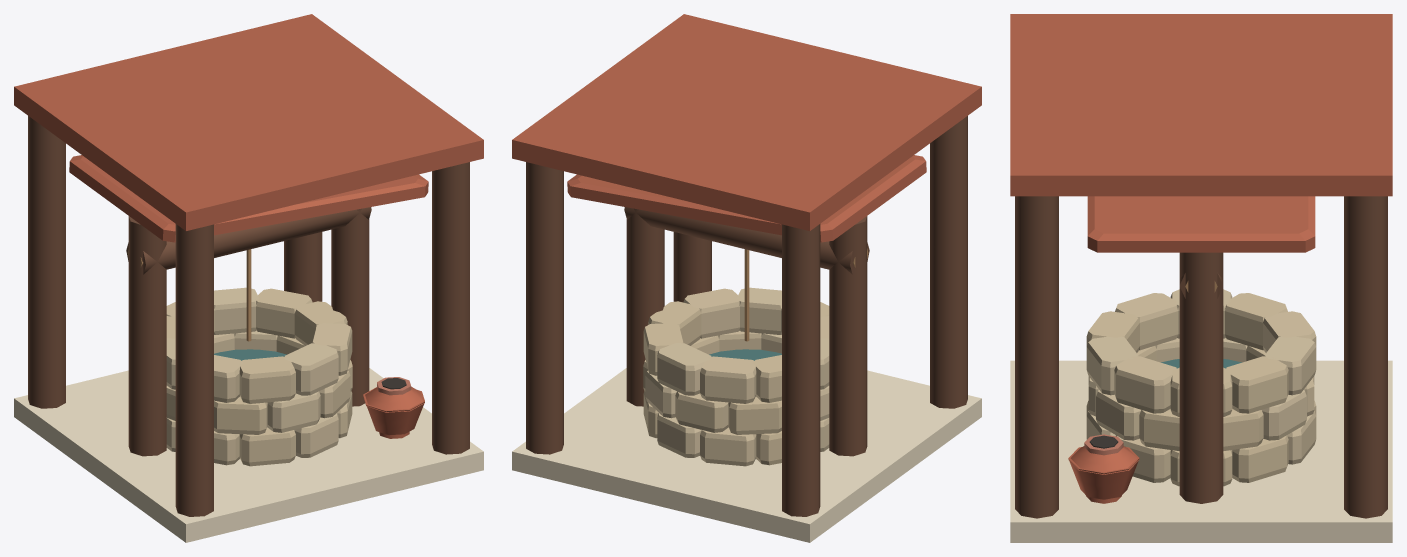
The model's file is waterworks_base.glb.
The picture shows the model from 3 angles, left to right: view 1: azimuth 30°, elevation 25°; view 2: azimuth 150°, elevation 25°; view 3: azimuth 270°, elevation 25°; orthographic projection. The views are drawn at different scales.
Parts seen in each view (by area): view 1: Floor, Cap2, Cap4, Cap, Cap3, Post2, Post4, Post, WellPost, Canopy, WellPost2, Axle (+18 smaller); view 2: Floor, Cap, Cap3, Cap2, Cap4, Post, Post3, Post2, WellPost, Canopy, WellPost2, Axle (+16 smaller); view 3: Floor, Cap3, Cap4, Cap, Cap2, Post3, Post4, Canopy, WellPost2, WellStone22, WellStone30, WellStone27 (+18 smaller).
Part boxes in pixels (<box>): Floor: <box>14,368,483,542</box>; Cap2: <box>100,113,334,230</box>; Cap4: <box>249,77,483,194</box>; Cap: <box>14,50,248,167</box>; Cap3: <box>163,14,397,112</box>; Post2: <box>175,224,213,516</box>; Post4: <box>432,162,469,454</box>; Post: <box>28,116,65,408</box>; WellPost: <box>128,216,166,456</box>; Canopy: <box>69,155,428,242</box>; WellPost2: <box>331,208,369,406</box>; Axle: <box>126,207,371,274</box>; Floor: <box>512,368,981,542</box>; Cap: <box>661,113,895,230</box>; Cap3: <box>512,77,746,194</box>; Cap2: <box>747,50,981,167</box>; Cap4: <box>598,14,832,112</box>; Post: <box>782,224,820,516</box>; Post3: <box>526,162,563,454</box>; Post2: <box>930,116,967,408</box>; WellPost: <box>829,216,867,456</box>; Canopy: <box>567,155,926,242</box>; WellPost2: <box>626,208,664,406</box>; Axle: <box>624,207,869,274</box>; Floor: <box>1010,360,1392,542</box>; Cap3: <box>1201,94,1392,196</box>; Cap4: <box>1010,94,1201,196</box>; Cap: <box>1201,14,1392,94</box>; Cap2: <box>1010,14,1201,94</box>; Post3: <box>1344,196,1387,518</box>; Post4: <box>1015,196,1058,518</box>; Canopy: <box>1087,196,1315,252</box>; WellPost2: <box>1179,252,1223,503</box>; WellStone22: <box>1114,356,1176,413</box>; WellStone30: <box>1226,356,1288,413</box>; WellStone27: <box>1225,293,1287,350</box>.
Bounding box in the file's own units: 2 × 2.12 × 2.
